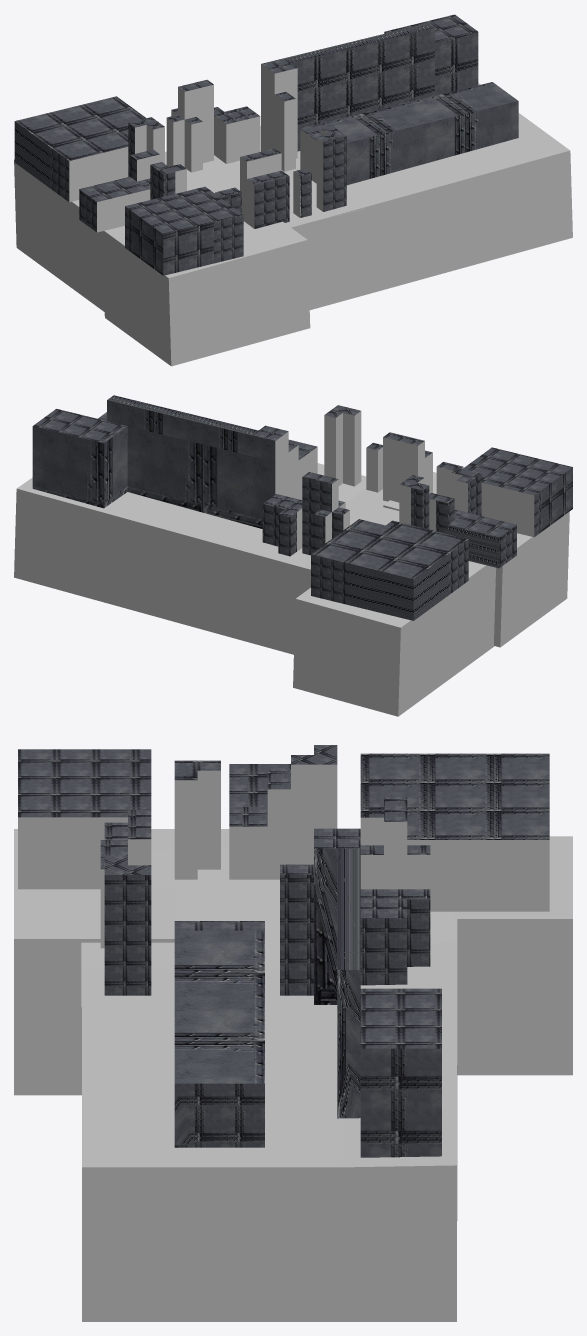
File: decor.obj
3 renders of one model, top to bottom at view 1: azimuth 30°, elevation 25°; view 2: azimuth 150°, elevation 25°; view 3: azimuth 270°, elevation 25°, orthographic. The views are drawn at different scales.
Visible parts, largest first — view 1: Plane; view 2: Plane; view 3: Plane.
Part boxes in pixels (bbox=[...]): Plane: bbox=[14, 14, 572, 366]; Plane: bbox=[14, 395, 572, 716]; Plane: bbox=[14, 745, 572, 1321].
Bounding box in the file's own units: 1071 × 434 × 690.
